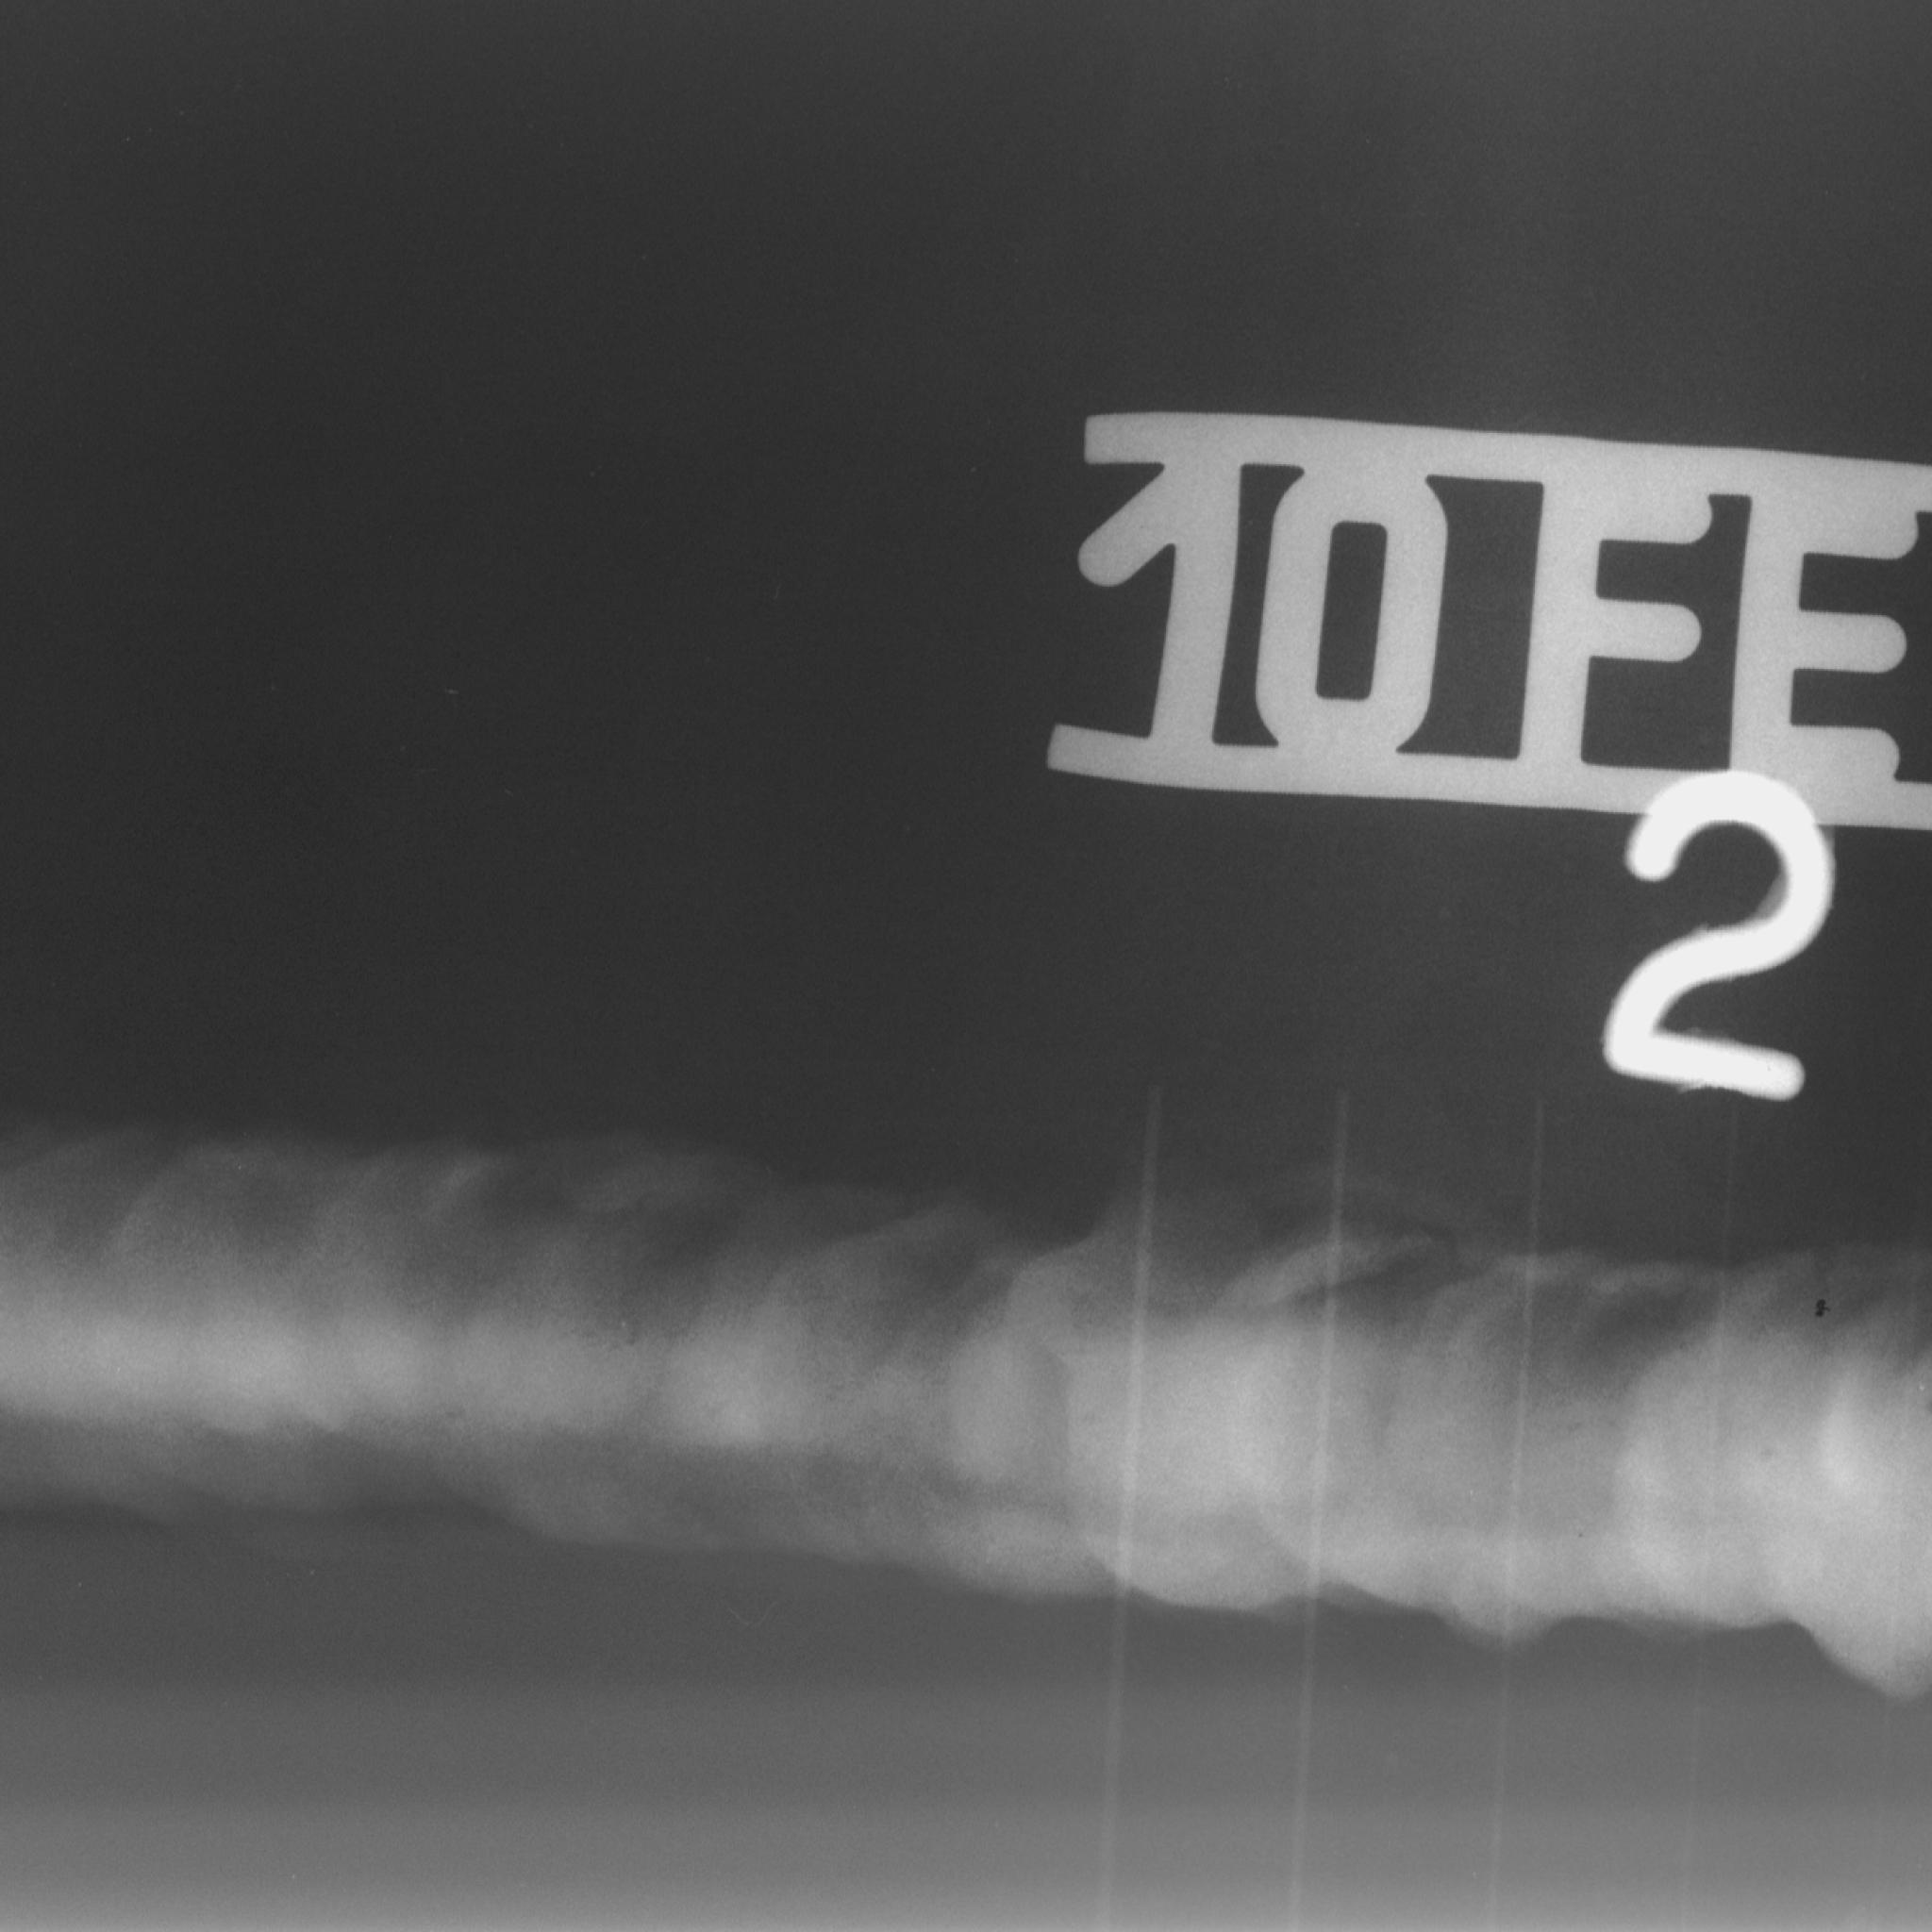FF: (0, 1060, 1932, 1743)
